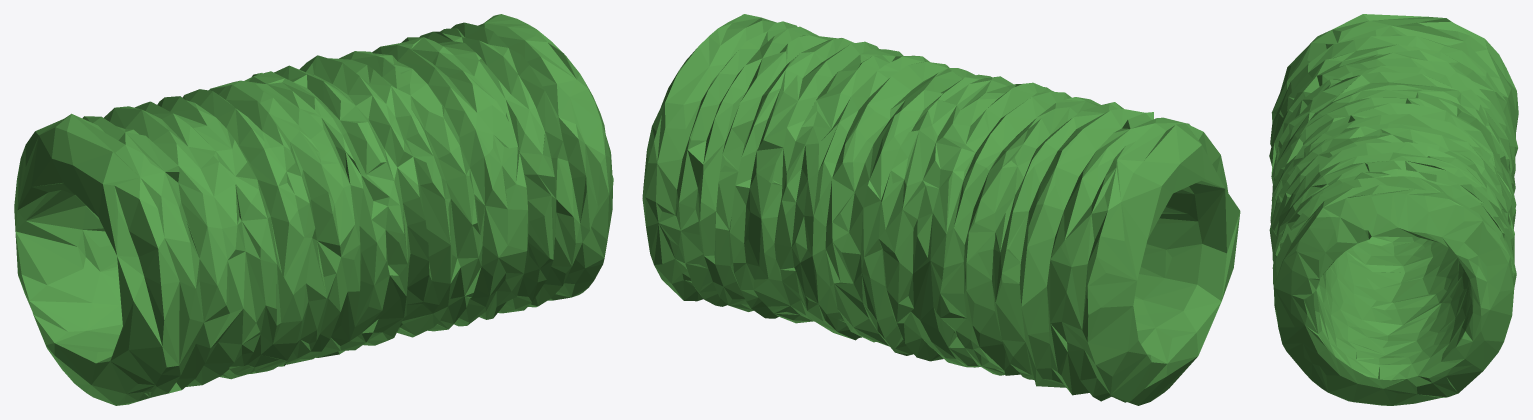
Rendered from valve-4.glb.
3 renders of one model, left to right at view 1: azimuth 30°, elevation 25°; view 2: azimuth 150°, elevation 25°; view 3: azimuth 270°, elevation 25°, orthographic. The views are drawn at different scales.
Visible parts, largest first — view 1: part_04; view 2: part_04; view 3: part_04.
Part boxes in pixels (box(x1,y1,x2,y2)): part_04: box(14, 14, 613, 405); part_04: box(642, 14, 1240, 405); part_04: box(1269, 14, 1518, 405).
Size of the model in its own units: 0.3693 by 0.1883 by 0.1926.
